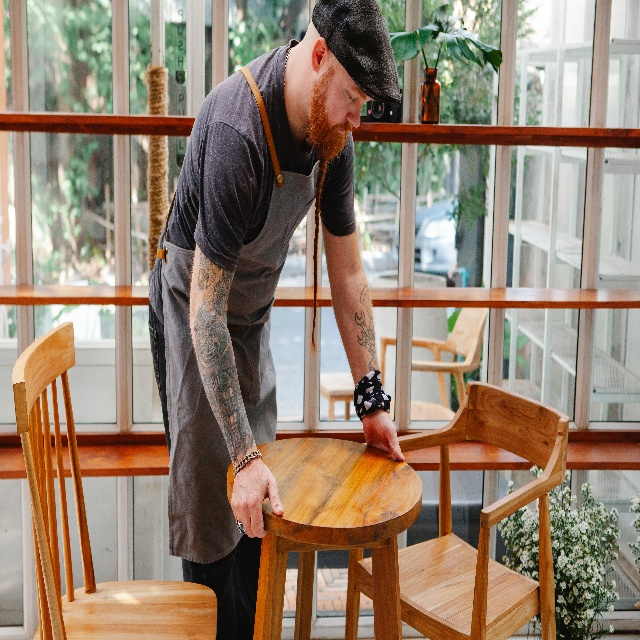Sin_guantes: (230, 456, 284, 539), (362, 408, 405, 462)
